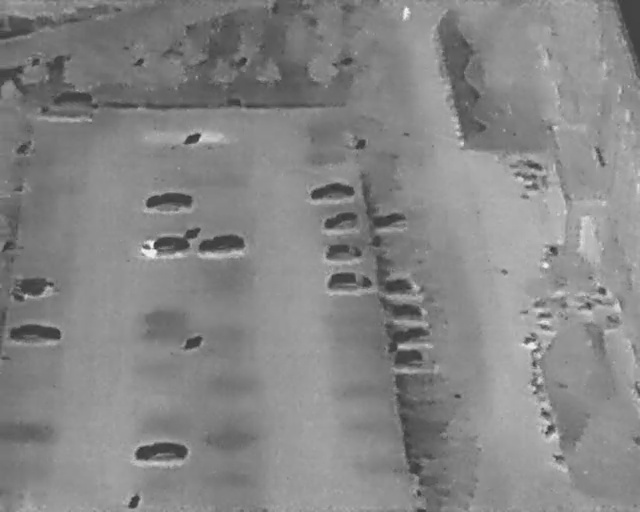Car: (38, 92, 94, 124), (9, 275, 59, 303), (8, 324, 62, 346), (197, 232, 246, 256), (134, 441, 189, 462), (141, 235, 190, 258), (327, 271, 373, 293), (308, 180, 356, 201), (144, 193, 193, 213), (386, 303, 428, 321), (323, 211, 360, 231), (382, 277, 420, 296), (323, 243, 363, 261), (391, 349, 431, 367), (392, 327, 432, 343), (374, 212, 408, 230)
